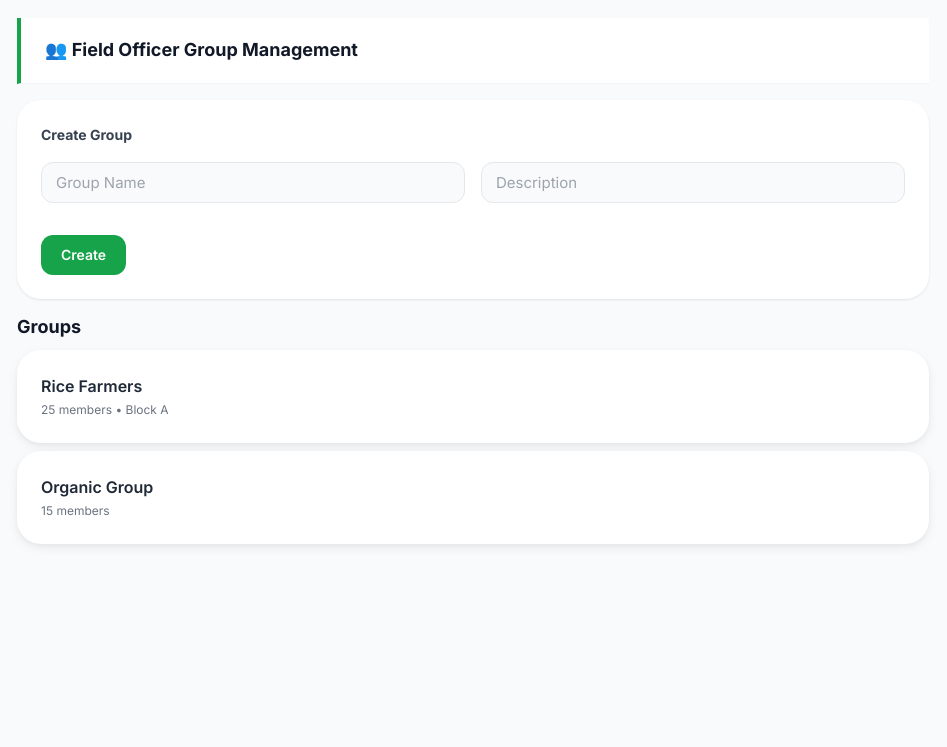
Test: GroupManagementPage › sends broadcast and shows tracking
Click the element with test id "group-g1" at {"x": 473, "y": 397}, box [17,350,929,443]
(page scrolled)
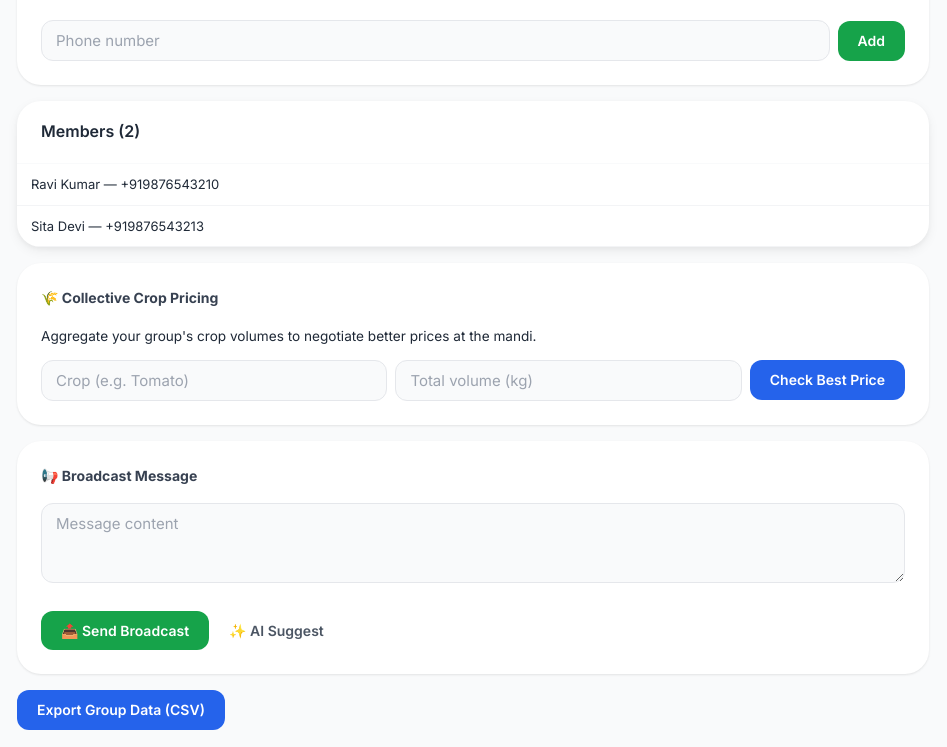
Check: the text box with test id "broadcast-input" is shown
Type "Important update" into the text box with test id "broadcast-input" at {"x": 473, "y": 543}, box [41,503,905,583]
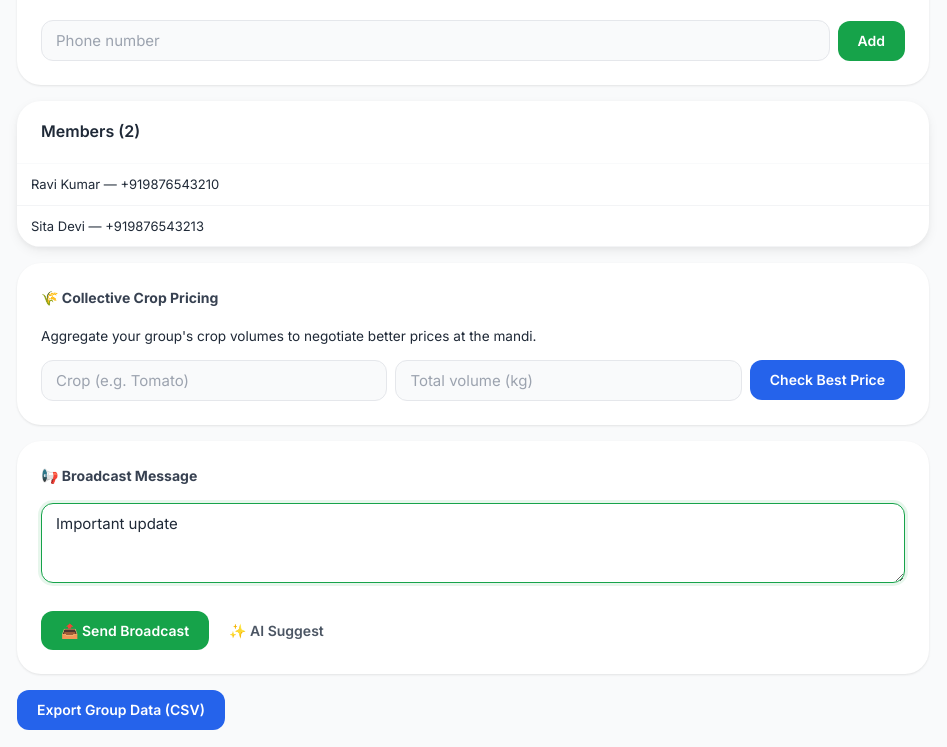
Click the button with test id "send-broadcast-btn" at {"x": 125, "y": 630}, box [41,611,209,650]
(page scrolled)
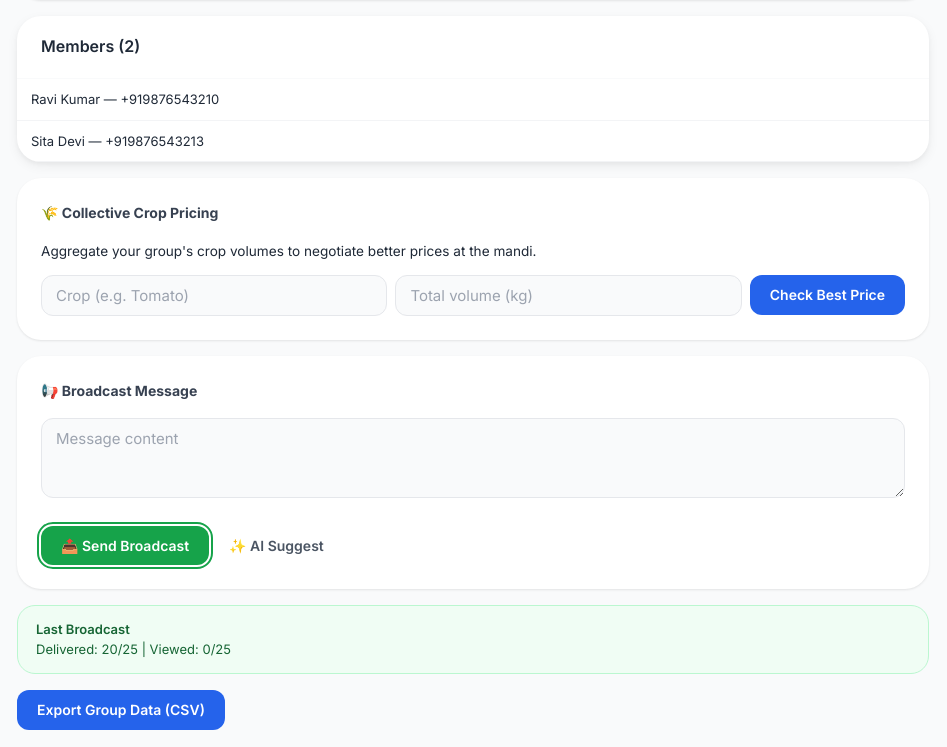
Check: the element with test id "broadcast-tracking" shows "Delivered: 20/25", box [17,605,929,674]
